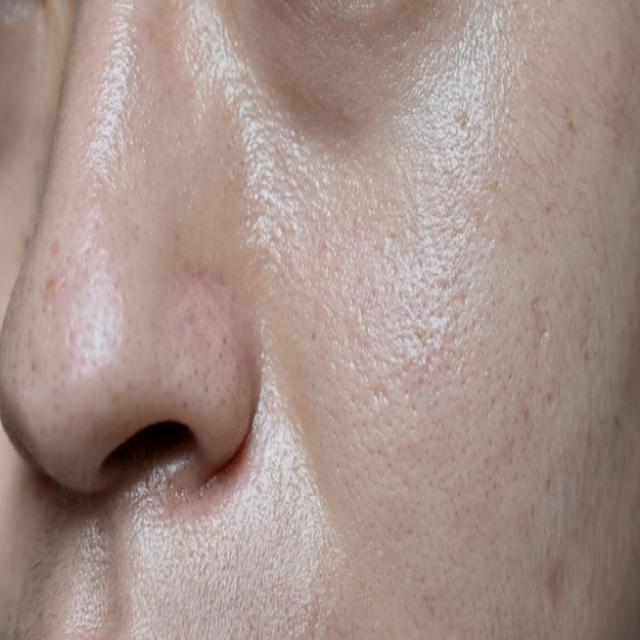Oily-Skin: (134, 94, 534, 628)
